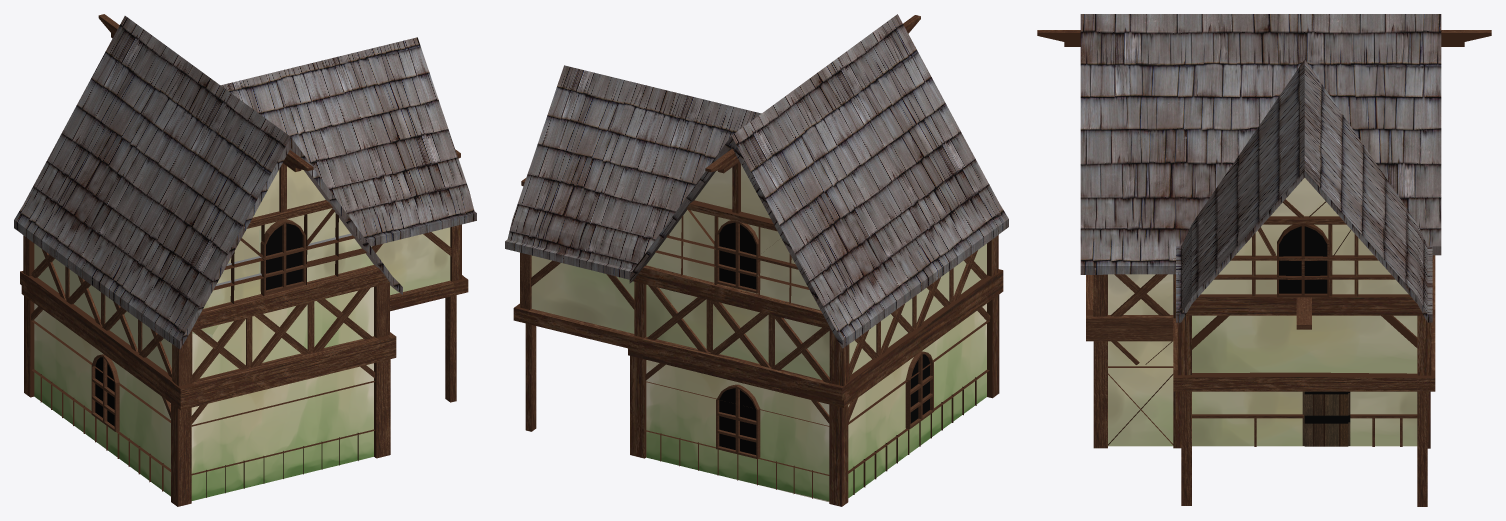
Rendered from Medieval-House.obj.
3 renders of one model, left to right at view 1: azimuth 30°, elevation 25°; view 2: azimuth 150°, elevation 25°; view 3: azimuth 270°, elevation 25°, orthographic. The views are drawn at different scales.
Parts seen in each view (by area): view 1: Cube.002, Plane.001, Plane.005, Plane, Plane.007_Plane.008; view 2: Cube.002, Plane.005, Plane.006, Plane.004, Plane.007_Plane.008; view 3: Cube.002, Plane.002, Cube.001, Plane.005.
Boxes of the visible parts, x1,y1,x2,y2 form: Cube.002: (14, 14, 476, 506); Plane.001: (260, 219, 305, 294); Plane.005: (32, 320, 375, 497); Plane: (213, 208, 366, 303); Plane.007_Plane.008: (91, 354, 119, 431); Cube.002: (505, 14, 1008, 506); Plane.005: (645, 209, 989, 498); Plane.006: (716, 384, 760, 459); Plane.004: (716, 220, 760, 293); Plane.007_Plane.008: (905, 351, 933, 429); Cube.002: (1037, 14, 1491, 506); Plane.002: (1214, 199, 1395, 297); Cube.001: (1302, 391, 1350, 446); Plane.005: (1192, 414, 1417, 446).
Bounding box in the file's own units: 9.25 × 8.15 × 8.82.
Materials: 12 (9 with a texture image).
